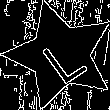L_NW: (32, 26, 89, 85)
